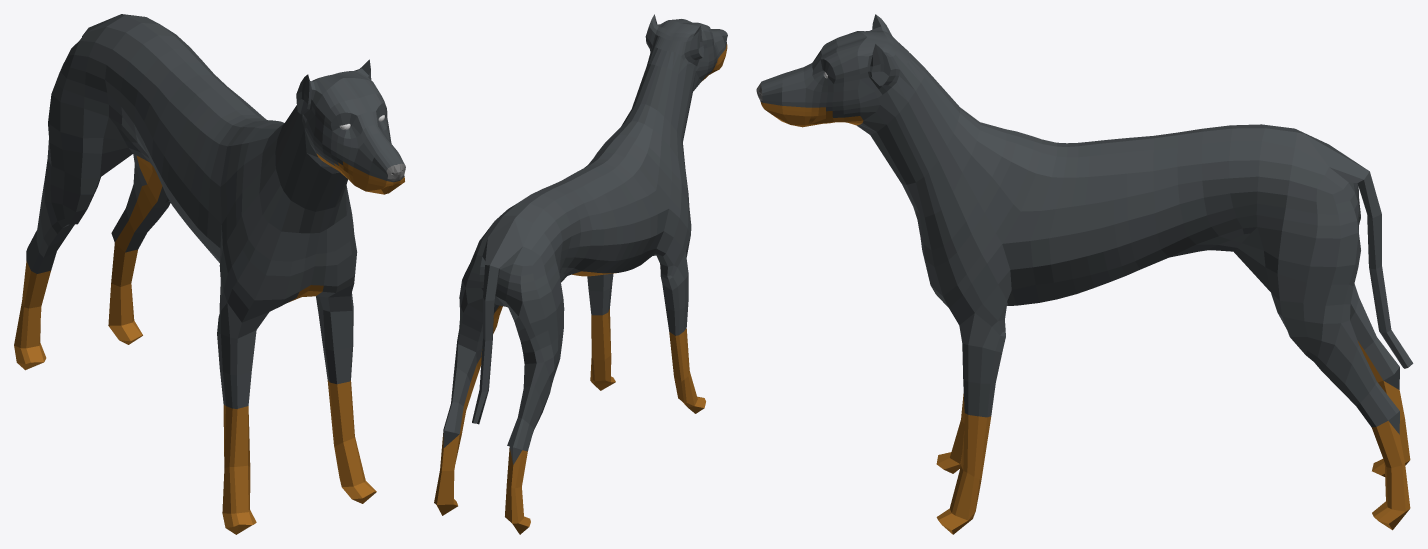
Rendered from Dog_v02.fbx.
3 renders of one model, left to right at view 1: azimuth 30°, elevation 25°; view 2: azimuth 150°, elevation 25°; view 3: azimuth 270°, elevation 25°, orthographic. The views are drawn at different scales.
Visible parts, largest first — view 1: Dog_1_Group2; view 2: Dog_1_Group2; view 3: Dog_1_Group2.
Part boxes in pixels (box(x1,y1,x2,y2)): Dog_1_Group2: box(14, 14, 405, 534); Dog_1_Group2: box(434, 14, 727, 534); Dog_1_Group2: box(756, 14, 1413, 534).
Size of the model in its own units: 29.83 by 92.14 by 115.
